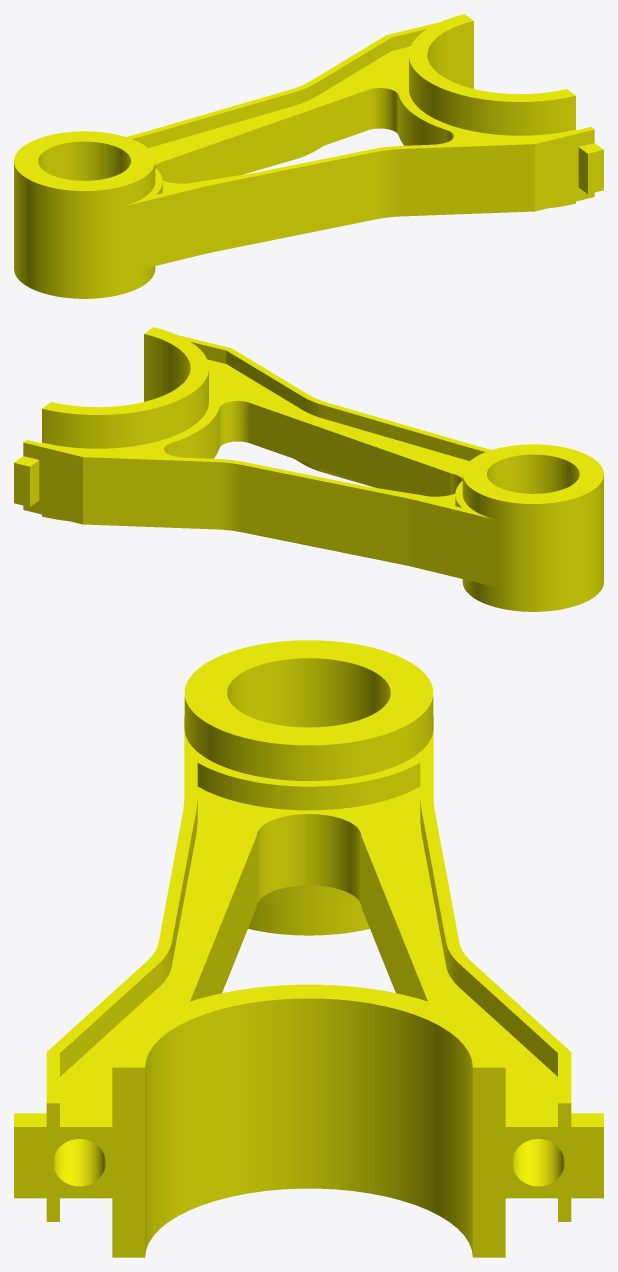
The model's file is Connecting rod - Upper.obj.
3 views of the same model, one above another, from view 1: azimuth 30°, elevation 25°; view 2: azimuth 150°, elevation 25°; view 3: azimuth 270°, elevation 25° (orthographic). The views are drawn at different scales.
Visible parts, largest first — view 1: mesh30, mesh20, mesh18, mesh26, mesh3, mesh34, mesh4, mesh33, mesh39, mesh17, mesh31, mesh38 (+9 smaller); view 2: mesh30, mesh7, mesh9, mesh22, mesh3, mesh34, mesh5, mesh33, mesh39, mesh10, mesh31, mesh38 (+9 smaller); view 3: mesh35, mesh3, mesh30, mesh13, mesh14, mesh33, mesh39, mesh31, mesh38, mesh21, mesh51, mesh22 (+6 smaller).
Boxes of the visible parts, box(x1,y1,x2,y2) form: mesh30: box(14, 162, 155, 298); mesh20: box(214, 152, 375, 251); mesh18: box(401, 144, 534, 216); mesh26: box(167, 90, 368, 183); mesh3: box(148, 46, 576, 192); mesh34: box(409, 58, 575, 135); mesh4: box(120, 187, 201, 274); mesh33: box(14, 131, 155, 190); mesh39: box(125, 22, 594, 205); mesh17: box(535, 129, 594, 211); mesh31: box(38, 141, 130, 180); mesh38: box(409, 14, 575, 101); mesh30: box(462, 475, 603, 611); mesh7: box(242, 465, 403, 564); mesh9: box(83, 457, 216, 529); mesh22: box(249, 403, 450, 496); mesh3: box(41, 359, 469, 505); mesh34: box(42, 371, 208, 448); mesh5: box(416, 500, 497, 587); mesh33: box(462, 444, 603, 503); mesh39: box(23, 335, 492, 518); mesh10: box(23, 442, 82, 524); mesh31: box(487, 454, 579, 493); mesh38: box(42, 327, 208, 414); mesh35: box(145, 998, 472, 1256); mesh3: box(60, 787, 557, 1126); mesh30: box(184, 696, 433, 935); mesh13: box(473, 1067, 603, 1257); mesh14: box(14, 1067, 144, 1257); mesh33: box(184, 640, 433, 745); mesh39: box(46, 729, 571, 1103); mesh31: box(227, 658, 390, 727); mesh38: box(112, 984, 505, 1067); mesh21: box(256, 814, 361, 904); mesh51: box(197, 763, 420, 810); mesh22: box(190, 836, 256, 1001).
Size of the model in its own units: 0.1543 by 0.032 by 0.09.
